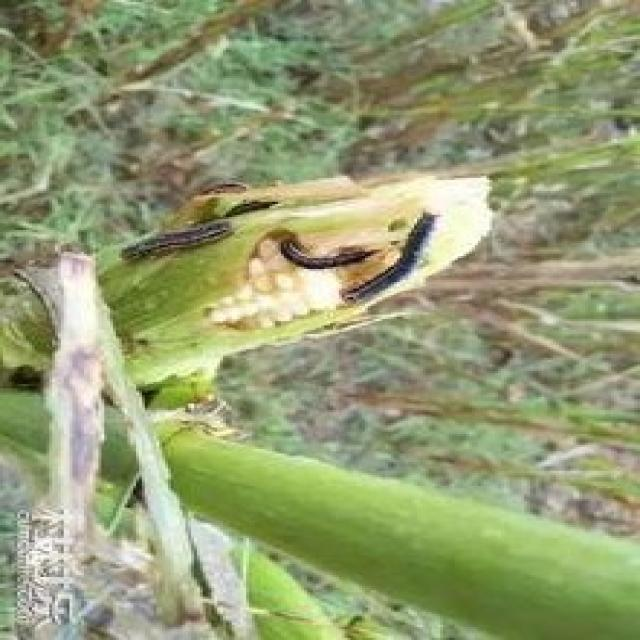army worm: (341, 210, 443, 308), (121, 219, 240, 265), (275, 234, 382, 284)
